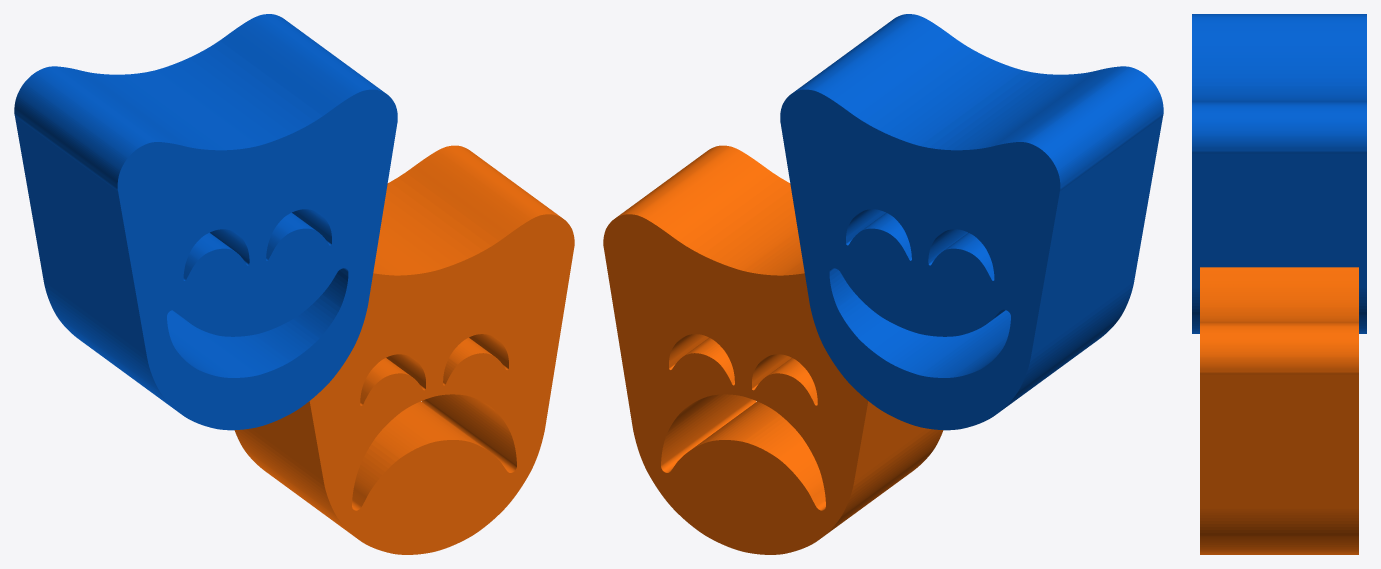
3 renders of one model, left to right at view 1: azimuth 30°, elevation 25°; view 2: azimuth 150°, elevation 25°; view 3: azimuth 270°, elevation 25°, orthographic. The views are drawn at different scales.
Visible parts, largest first — view 1: U+1F3AD_layer01_obj00, U+1F3AD_layer00_obj00; view 2: U+1F3AD_layer01_obj00, U+1F3AD_layer00_obj00; view 3: U+1F3AD_layer00_obj00, U+1F3AD_layer01_obj00.
Part boxes in pixels (x1,y1,x2,y2): U+1F3AD_layer01_obj00: [14, 14, 397, 430]; U+1F3AD_layer00_obj00: [234, 145, 574, 554]; U+1F3AD_layer01_obj00: [780, 14, 1163, 430]; U+1F3AD_layer00_obj00: [603, 145, 943, 554]; U+1F3AD_layer00_obj00: [1200, 267, 1358, 554]; U+1F3AD_layer01_obj00: [1192, 14, 1366, 333].
Size of the model in its own units: 0.5678 by 0.5677 by 0.22.
